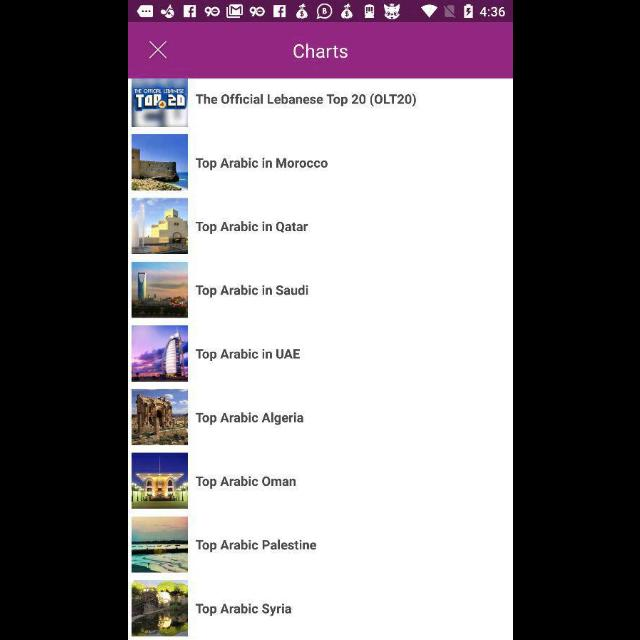icon: (149, 41, 167, 59)
image: (131, 388, 187, 446), (130, 263, 188, 319), (131, 134, 187, 192), (131, 198, 187, 255), (131, 580, 187, 636), (131, 517, 187, 573), (131, 453, 187, 509), (131, 326, 187, 382), (131, 79, 187, 127)
text: (194, 94, 416, 108), (195, 157, 327, 170), (194, 539, 316, 553), (195, 284, 308, 298), (195, 221, 307, 235), (195, 412, 303, 426), (195, 348, 299, 362), (195, 475, 295, 489), (194, 604, 290, 616), (292, 44, 348, 60)
toolbar: (128, 23, 512, 79)
uppertaskbar: (128, 1, 512, 23)
